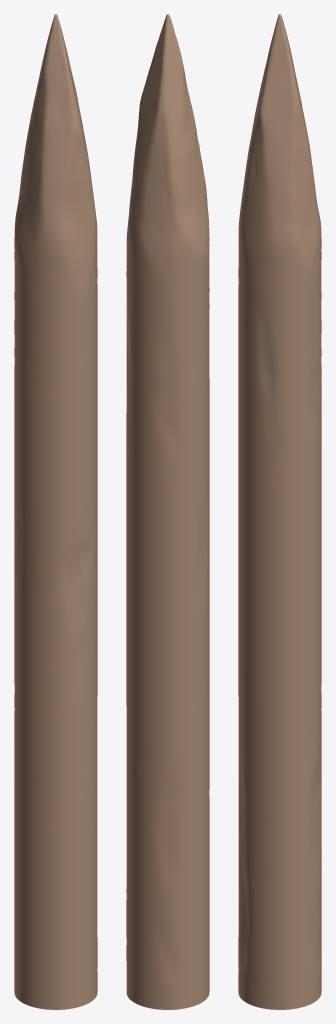
File: Wood_Spike_02_sculpted.fbx
3 views of the same model, side by side, from view 1: azimuth 90°, elevation 25°; view 2: azimuth 210°, elevation 25°; view 3: azimuth 270°, elevation 25° (orthographic).
Parts seen in each view (by area): view 1: Wood_Spike_02_base; view 2: Wood_Spike_02_base; view 3: Wood_Spike_02_base.
Part boxes in pixels (left/top/right/bottom): Wood_Spike_02_base: left=14, top=14, right=97, bottom=1009; Wood_Spike_02_base: left=126, top=14, right=209, bottom=1009; Wood_Spike_02_base: left=238, top=14, right=321, bottom=1009.
Size of the model in its own units: 23.27 by 302 by 23.27.
